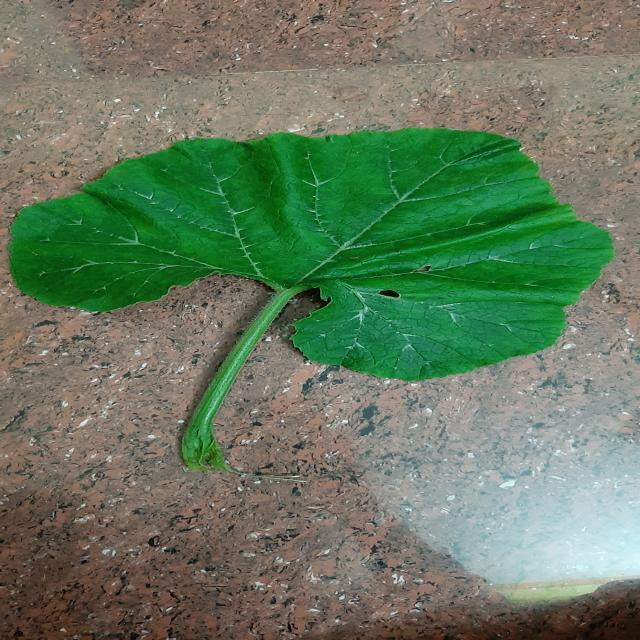pumpkin: (11, 129, 612, 469)
